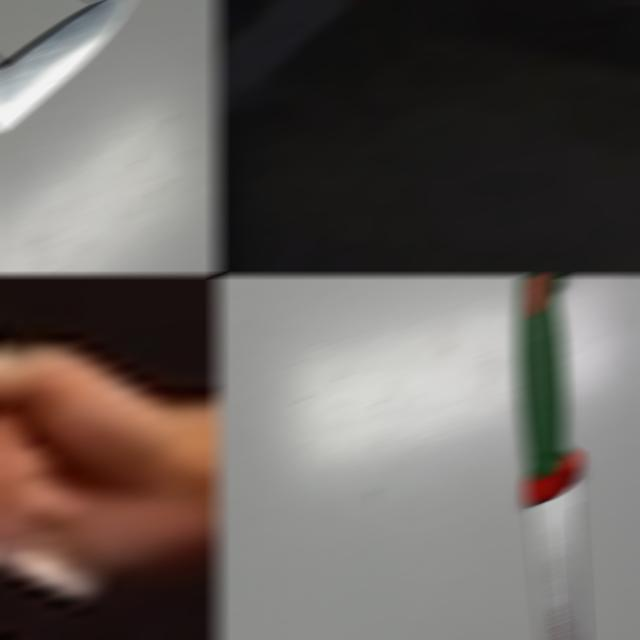Knife: (516, 276, 587, 639), (214, 1, 377, 144), (0, 1, 135, 132)
Knife_Handle: (0, 276, 190, 612), (214, 1, 447, 150)
